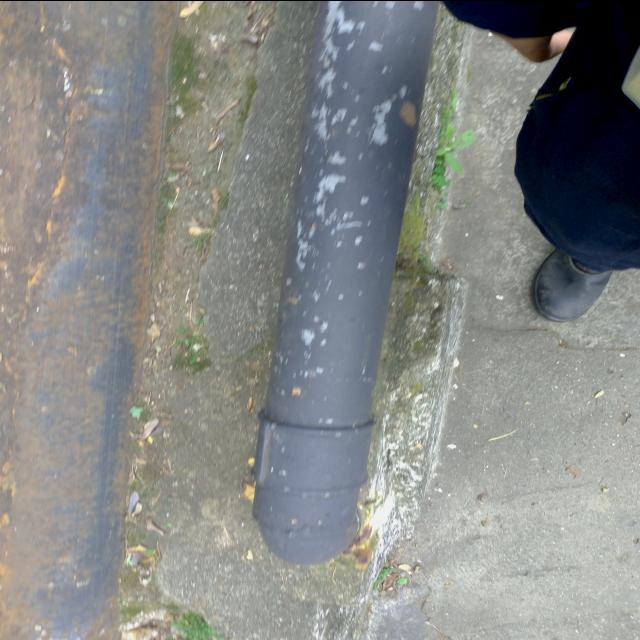gas: (253, 3, 429, 554)
